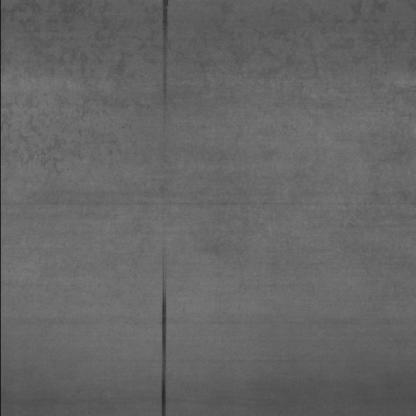crease: (143, 9, 185, 407)
